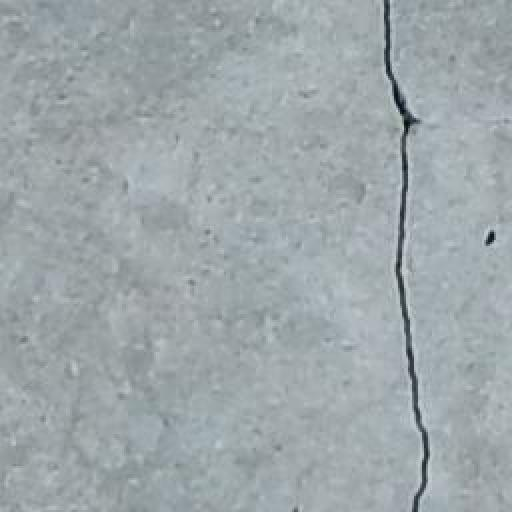spalling: (374, 11, 451, 509)
